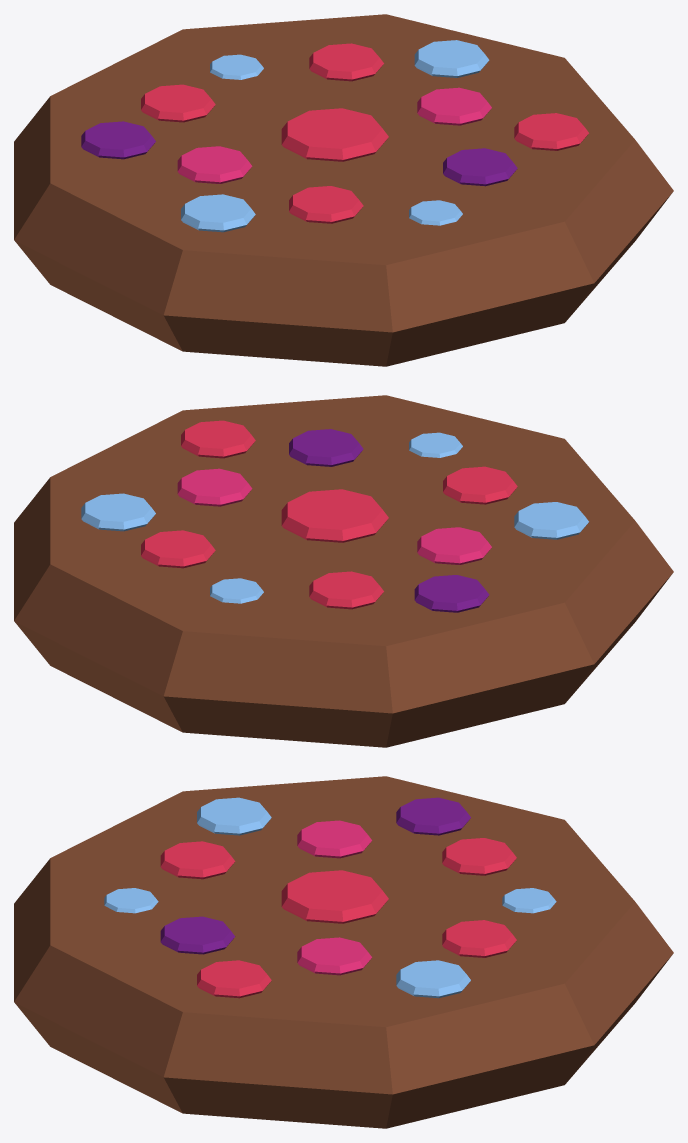
The model's file is Cookie4.fbx.
3 views of the same model, one above another, from view 1: azimuth 30°, elevation 25°; view 2: azimuth 150°, elevation 25°; view 3: azimuth 270°, elevation 25° (orthographic).
Visible parts, largest first — view 1: Cookie4; view 2: Cookie4; view 3: Cookie4.
Boxes of the visible parts, x1,y1,x2,y2 form: Cookie4: (14,14,673,366); Cookie4: (14,395,673,747); Cookie4: (14,776,673,1128).
Size of the model in its own units: 144 by 26.7 by 142.
